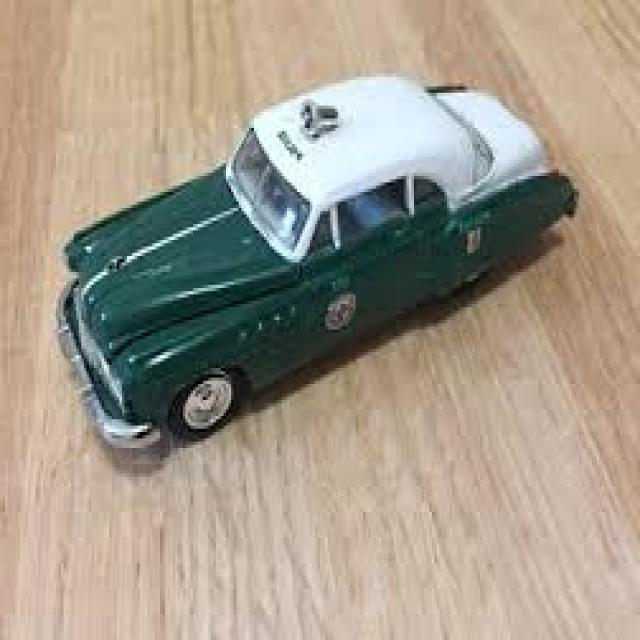Car: (56, 70, 581, 448)
